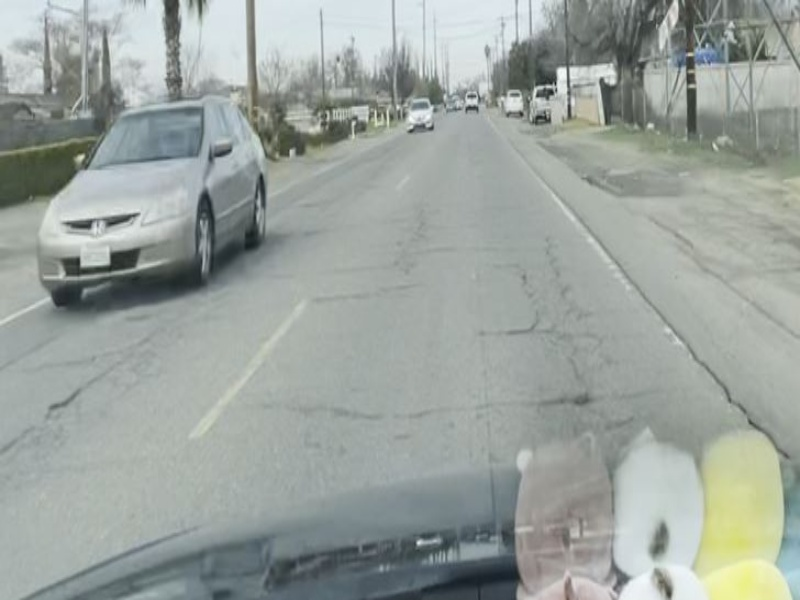pothole: (565, 392, 601, 409)
